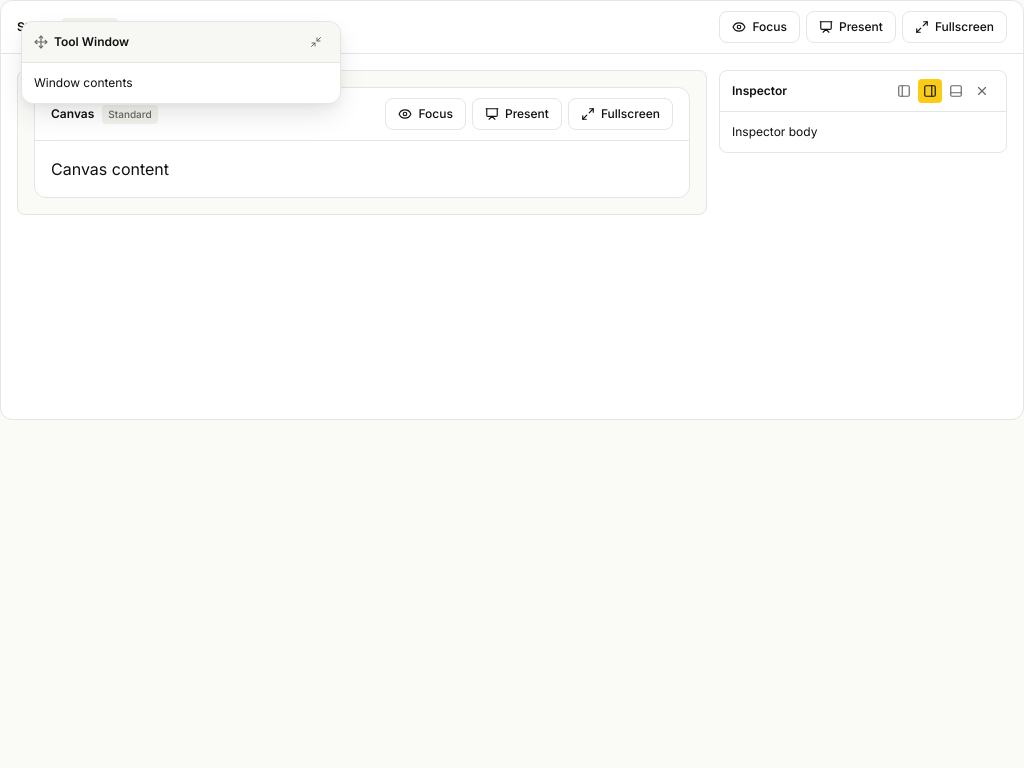
Test case: Workspace Windowing, System States & AI/Presence › supports WorkspaceModeContainer focus/escape, DockablePanel, and FloatingWindow keyboard movement
This screenshot has width=1024, height=768.
Step 1. Click the button "Focus" in the row of "Inspector body" → (426, 114), box [386,98,466,130]
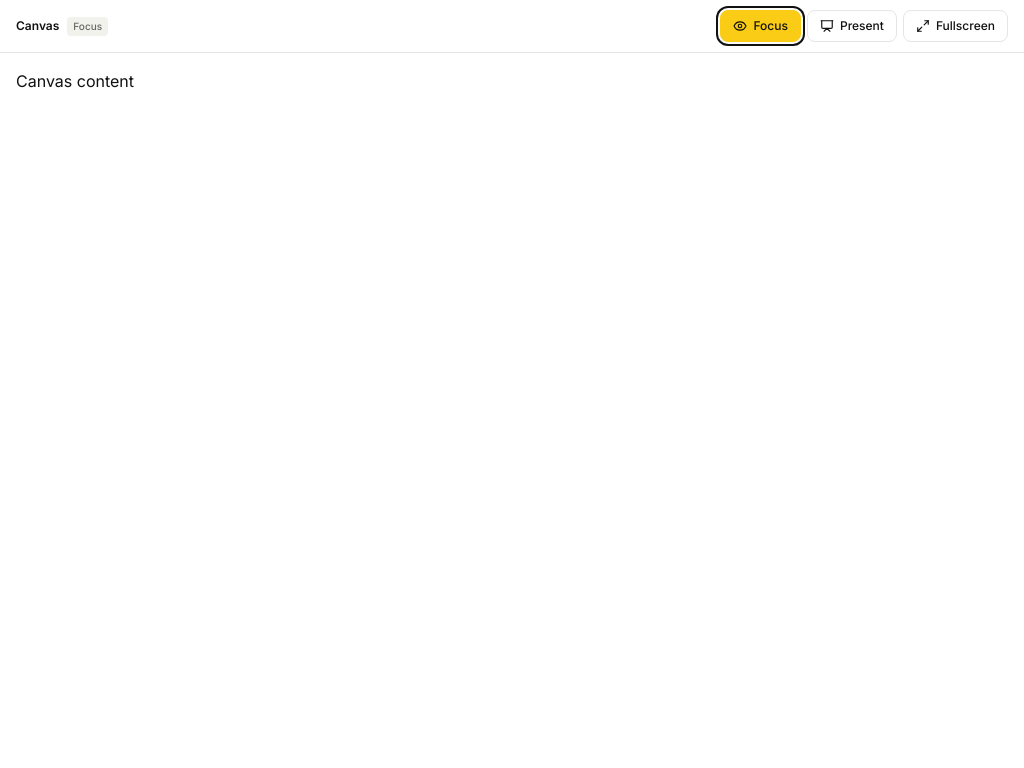
Expected: the text "Canvas" has attribute data-workspace-mode="focus"
Step 2. Press Escape
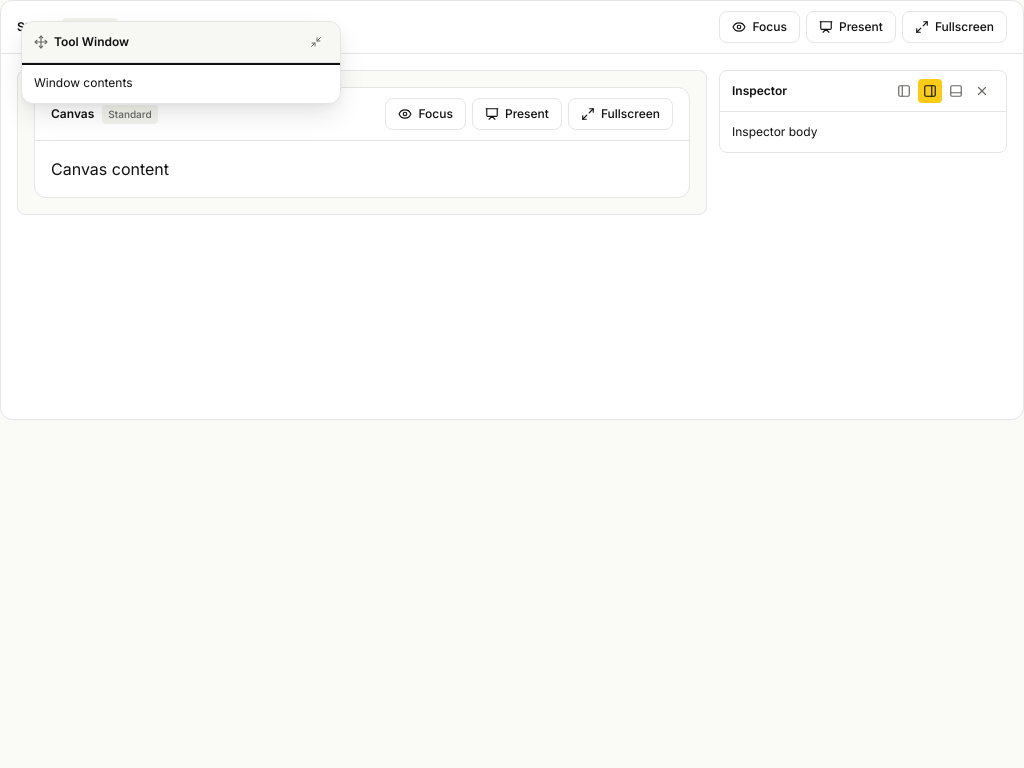
Expected: the text "Canvas" has attribute data-workspace-mode="standard", [34,87,690,198]
Step 3. Press Arrowright
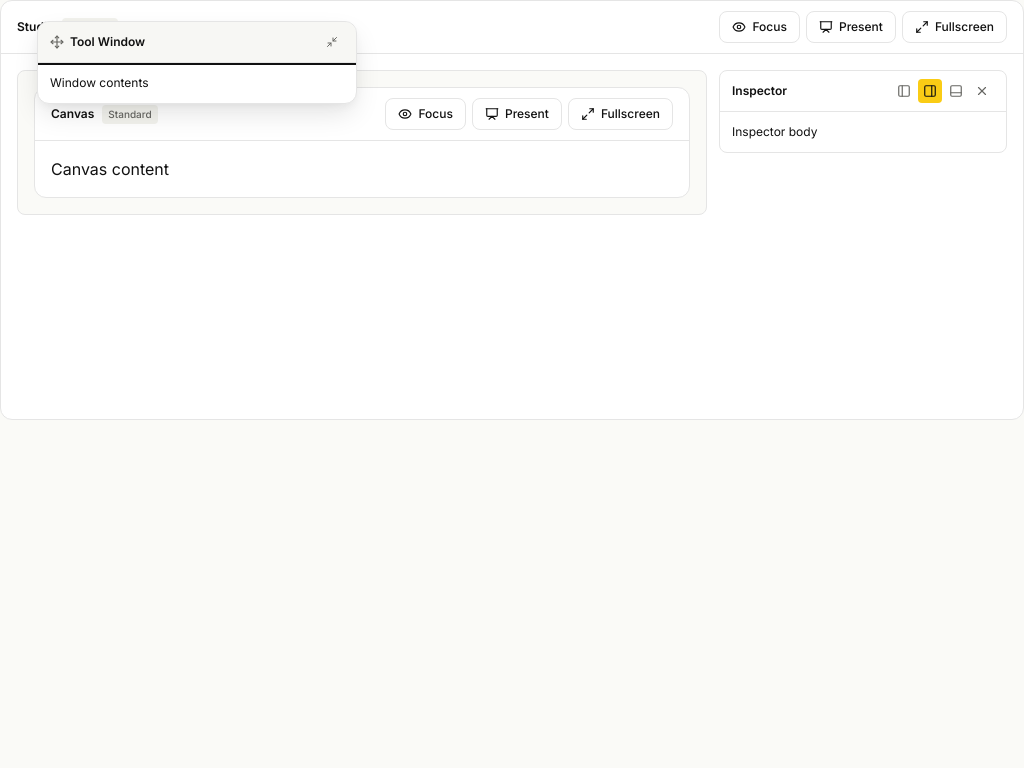
Step 4. Click the button named "Dock bottom" → (956, 91), box [944,79,968,103]
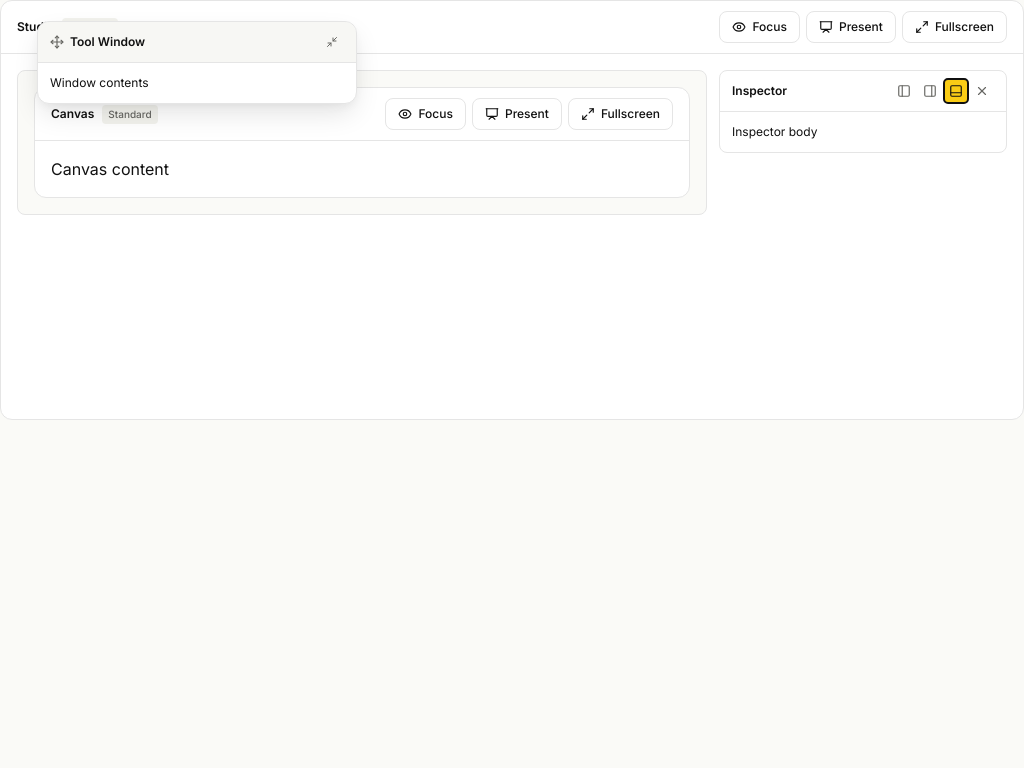
Expected: the element named "Inspector (bottom dock)" is shown, [719,70,1007,153]
